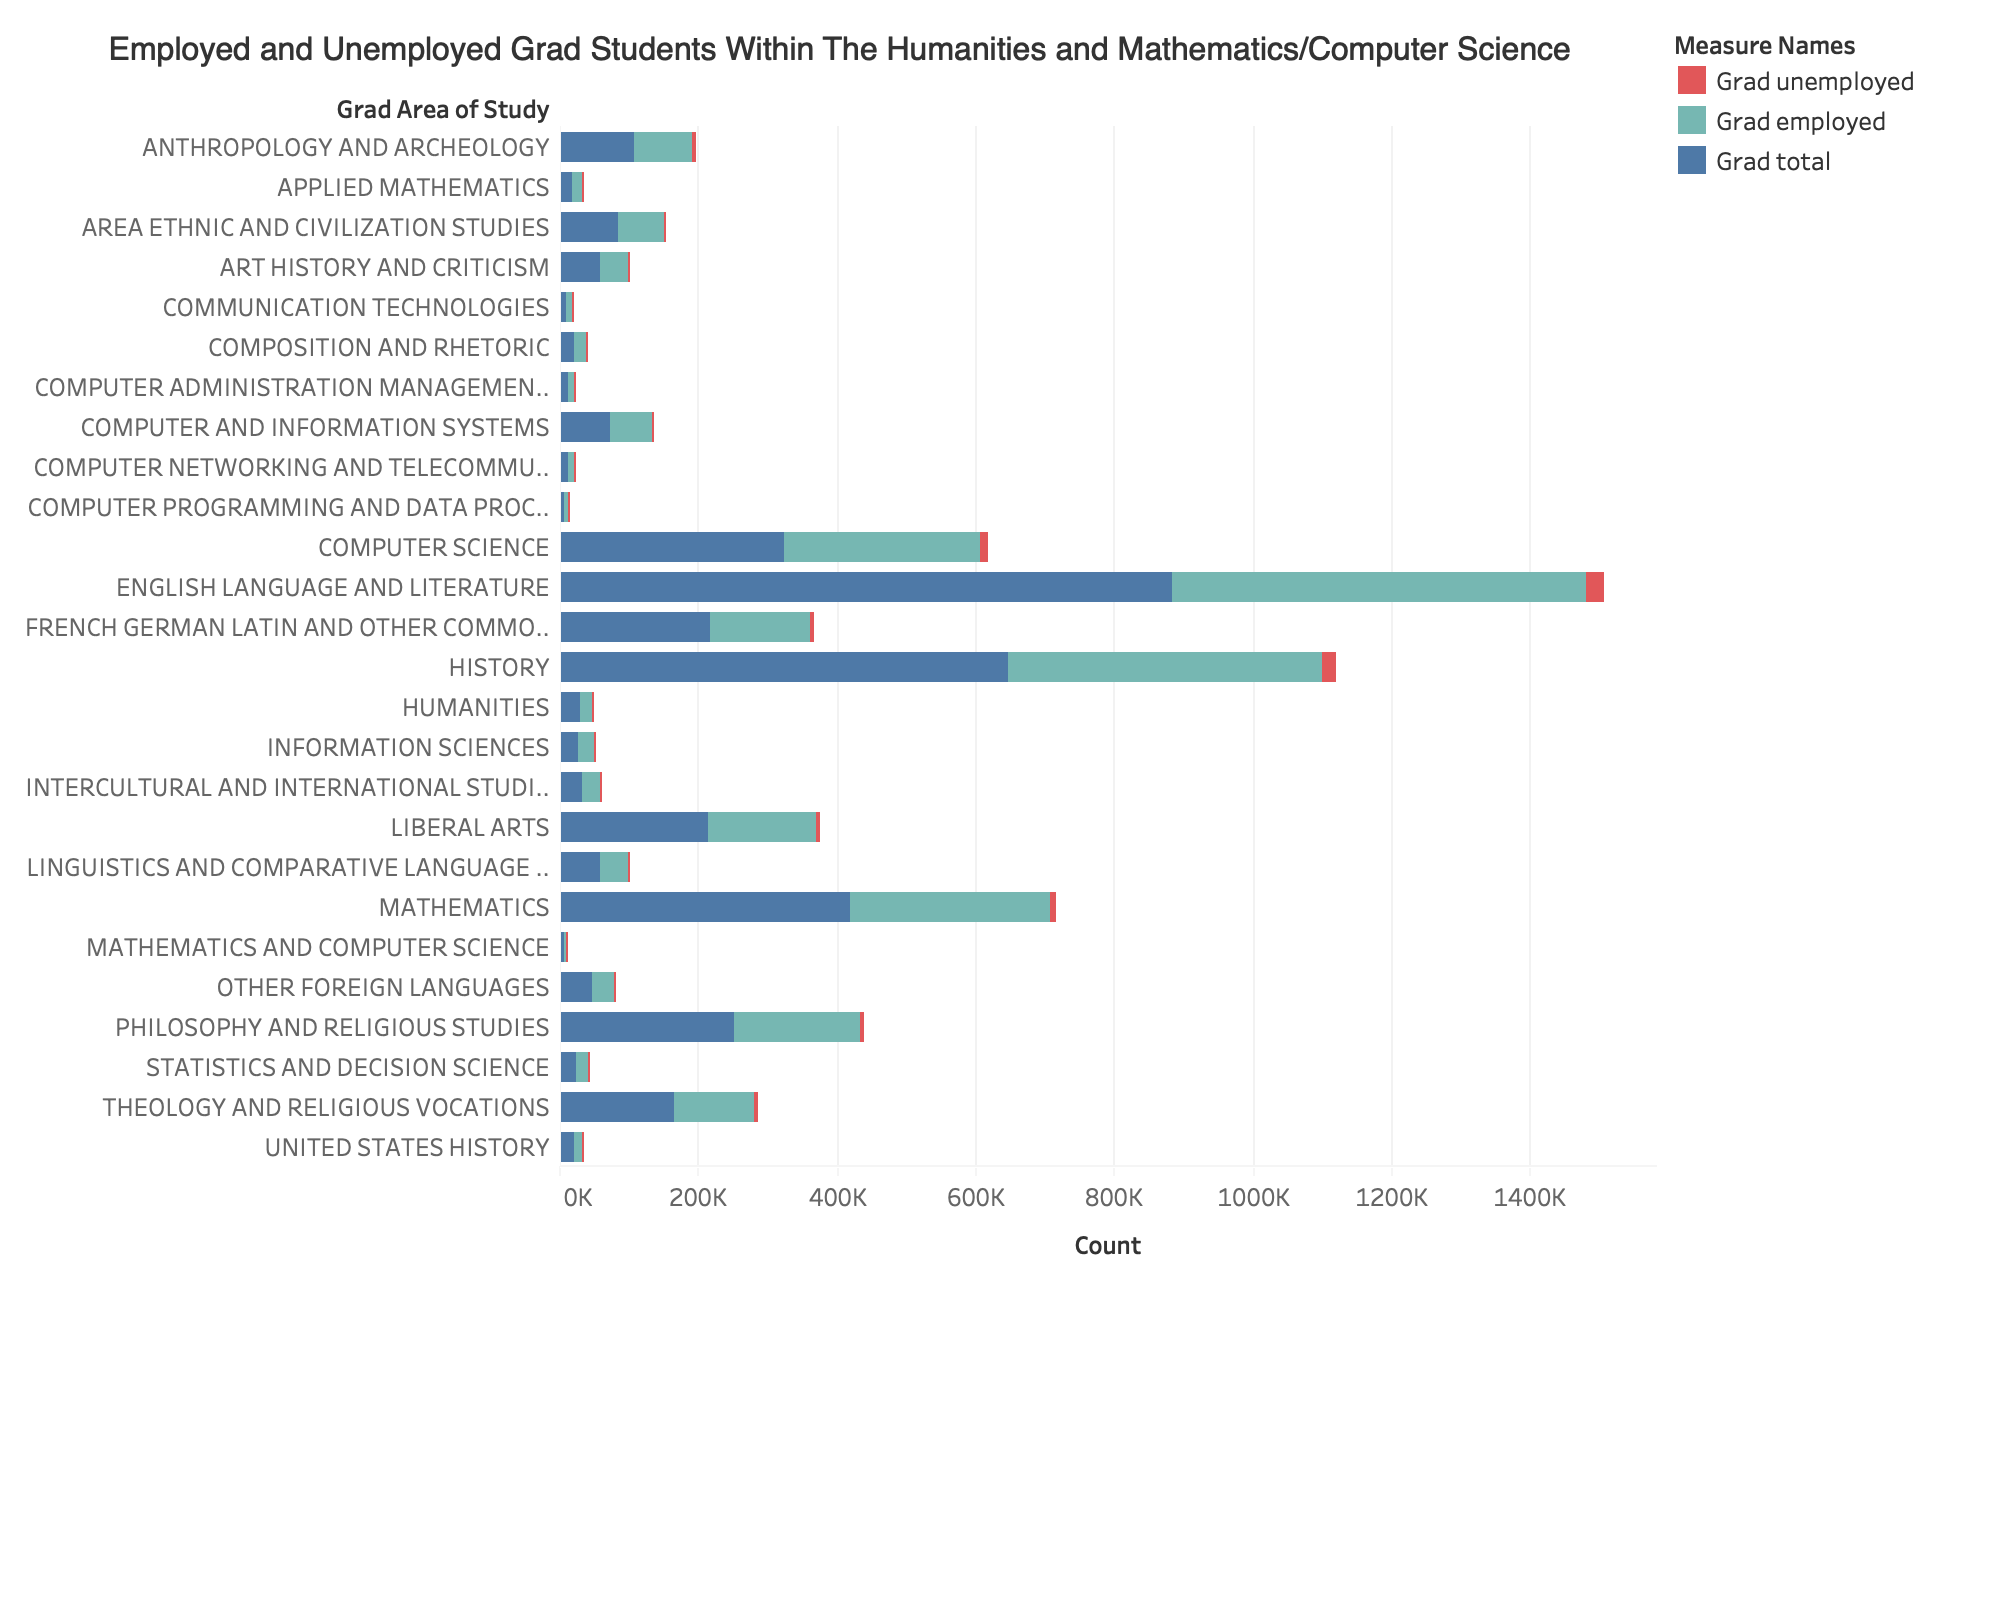

The dashboard page shown, as its layout file describes it:
{"tool":"tableau","page":{"name":"Dashboard 1","canvas":[1000,800],"ordinal":0},"visuals":[{"type":"worksheet","title":"Sheet 1","mark":"Automatic","rows":["Major"],"box":[8,8,824,784]},{"type":"legend","title":"Sheet 1","param":"[federated.1yse6bk051hhde12rris90rb67t1].[:Measure Names]","box":[832,8,160,86]}]}

Visuals, with their boxes in screenshot pixels (x1, y1, x2, y2), scaled from the page's 1000x800 canvas onto the 2000x1600 screenshot:
"Sheet 1" worksheet: Rect(16, 16, 1664, 1584)
"Sheet 1" legend: Rect(1664, 16, 1984, 188)
